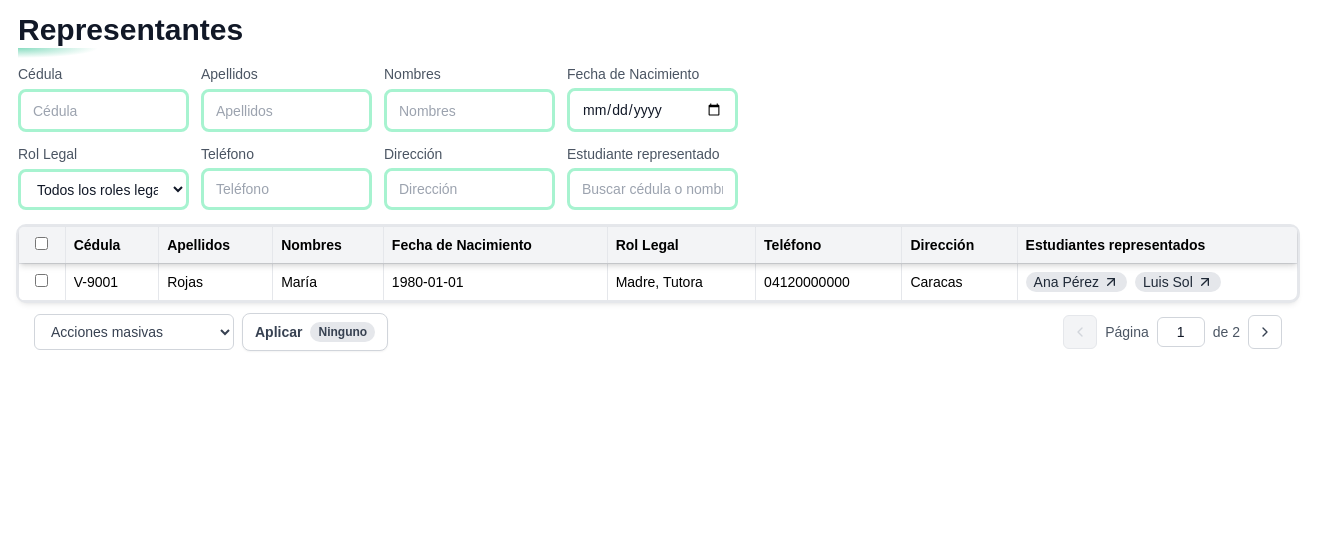
Scenario: Representantes page › opens and returns from a read-only guardian detail
Click the link "María": (299, 282) [281,274,317,290]
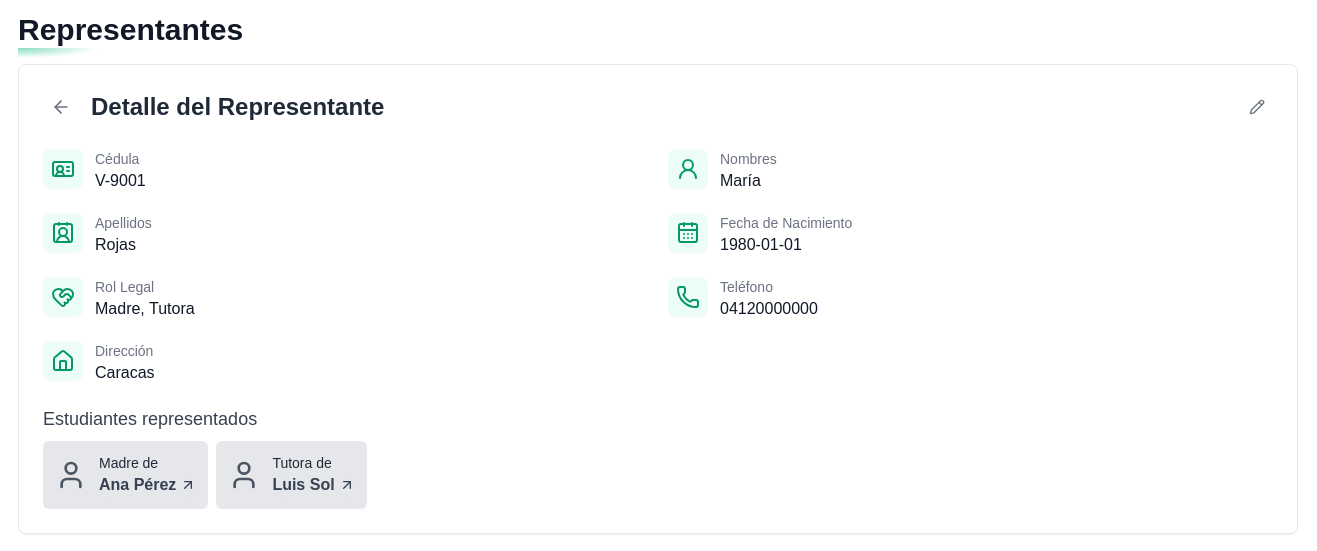
Expected: the text "V-9001" is shown, [95,169,146,193]
Result: the heading "Detalle del Representante" is shown at [91,91,384,123]
Result: the field is gone
Click the link named "Volver a la lista de representantes": (61, 107) [51,97,71,117]
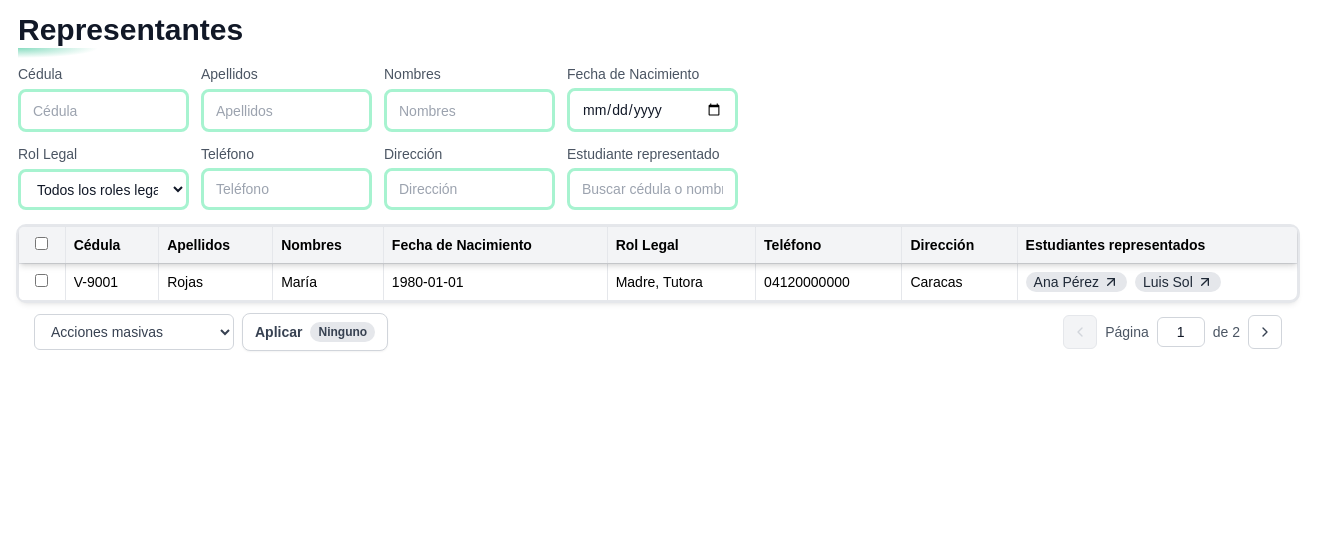
Result: the table is shown at [18,226,1298,301]
